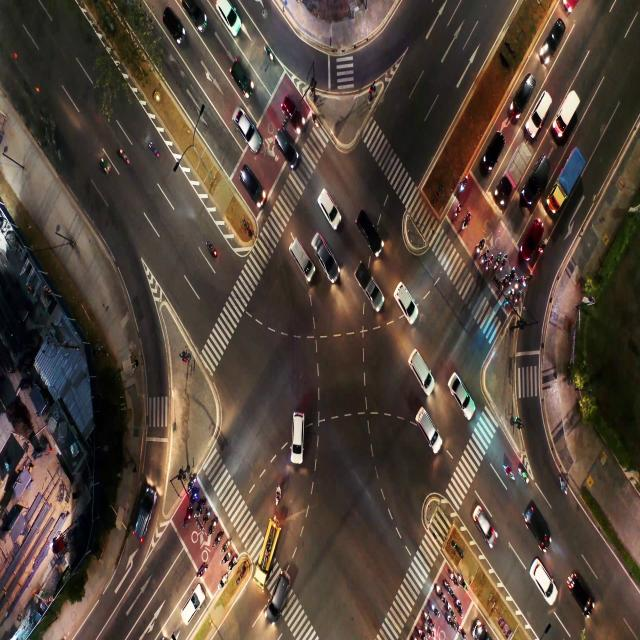bus: (262, 534, 272, 553)
car: (134, 494, 152, 535), (414, 412, 434, 444), (162, 9, 183, 37), (452, 377, 465, 409), (312, 240, 330, 263), (184, 5, 207, 22), (222, 4, 238, 27), (482, 143, 500, 163), (184, 590, 197, 617), (242, 166, 256, 191), (282, 132, 294, 160), (232, 66, 246, 89), (362, 223, 375, 247), (569, 578, 583, 600), (287, 101, 300, 123), (534, 158, 544, 186), (236, 116, 251, 134), (273, 580, 284, 604), (534, 568, 547, 588), (478, 507, 488, 531), (548, 30, 558, 54), (294, 243, 306, 262), (531, 513, 540, 537), (398, 288, 409, 307), (526, 226, 535, 249), (537, 95, 544, 124), (292, 416, 300, 439), (322, 190, 330, 212), (415, 353, 422, 377), (514, 91, 524, 106)
motorcycle: (120, 148, 129, 162), (149, 138, 156, 156), (208, 242, 217, 254), (266, 50, 275, 61), (462, 219, 470, 231), (499, 260, 506, 272), (508, 468, 514, 482), (562, 482, 568, 496), (521, 472, 529, 482), (215, 532, 221, 545), (275, 486, 280, 501), (183, 514, 189, 526), (220, 574, 226, 586), (102, 160, 110, 169), (222, 540, 228, 551), (222, 553, 228, 564), (209, 523, 215, 533), (506, 292, 512, 302), (514, 297, 520, 306), (447, 604, 453, 613), (458, 626, 464, 635), (461, 578, 466, 588), (454, 208, 460, 216), (476, 241, 480, 253), (457, 599, 461, 611), (446, 582, 451, 591), (202, 562, 206, 572), (204, 513, 208, 523), (540, 244, 545, 252), (487, 257, 491, 267), (482, 252, 486, 261), (508, 276, 512, 285), (514, 281, 518, 290), (523, 277, 527, 286), (231, 558, 235, 566), (494, 260, 498, 268), (437, 586, 441, 594), (199, 503, 202, 513), (418, 628, 422, 635), (501, 281, 504, 290), (448, 616, 452, 622), (426, 613, 430, 619), (426, 626, 430, 632), (451, 572, 454, 579), (432, 605, 435, 612), (192, 496, 194, 505), (461, 183, 464, 189), (190, 478, 192, 486), (313, 115, 314, 123)
truck: (561, 157, 575, 194), (507, 159, 519, 184), (562, 92, 572, 122), (358, 264, 368, 291)
